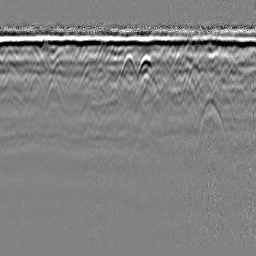cavity: (119, 50, 137, 81)
